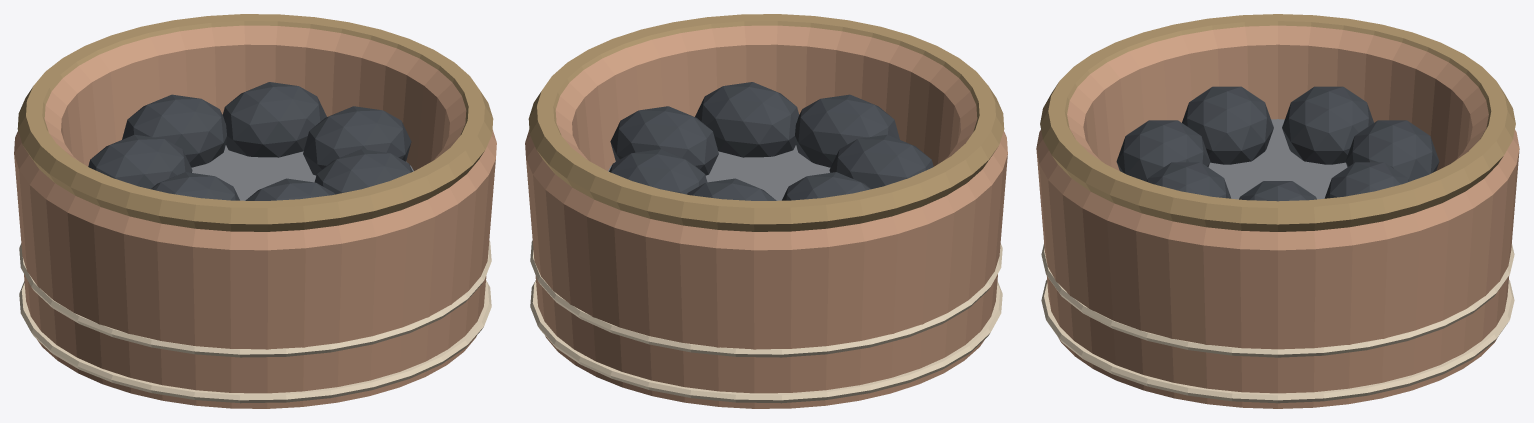
The model's file is home_hibachi.glb.
3 views of the same model, side by side, from view 1: azimuth 30°, elevation 25°; view 2: azimuth 150°, elevation 25°; view 3: azimuth 270°, elevation 25° (orthographic).
Visible parts, largest first — view 1: Hibachi deep glazed ash bowl, Hibachi dark copper lip, Charcoal briquette.001, Brazier ornate bands, Charcoal briquette.002, Charcoal briquette, Brazier ornate bands.001, Charcoal briquette.003, Gray ash inside, Charcoal briquette.006, Charcoal briquette.004, Charcoal briquette.005; view 2: Hibachi deep glazed ash bowl, Hibachi dark copper lip, Charcoal briquette.006, Brazier ornate bands, Charcoal briquette.005, Charcoal briquette, Brazier ornate bands.001, Charcoal briquette.004, Gray ash inside, Charcoal briquette.001, Charcoal briquette.003, Charcoal briquette.002; view 3: Hibachi deep glazed ash bowl, Hibachi dark copper lip, Brazier ornate bands, Charcoal briquette.003, Charcoal briquette.004, Brazier ornate bands.001, Gray ash inside, Charcoal briquette.002, Charcoal briquette.005, Charcoal briquette.001, Charcoal briquette.006, Charcoal briquette.
Part boxes in pixels (x1,y1,x2,y2): Hibachi deep glazed ash bowl: (14, 25, 496, 408); Hibachi dark copper lip: (17, 14, 493, 231); Charcoal briquette.001: (222, 82, 326, 157); Brazier ornate bands: (19, 280, 491, 403); Charcoal briquette.002: (122, 94, 226, 167); Charcoal briquette: (303, 106, 411, 175); Brazier ornate bands.001: (19, 240, 491, 357); Charcoal briquette.003: (88, 134, 192, 188); Gray ash inside: (191, 145, 413, 200); Charcoal briquette.006: (314, 149, 412, 194); Charcoal briquette.004: (151, 172, 239, 200); Charcoal briquette.005: (245, 178, 334, 200); Hibachi deep glazed ash bowl: (525, 25, 1007, 408); Hibachi dark copper lip: (528, 14, 1004, 231); Charcoal briquette.006: (695, 82, 799, 157); Brazier ornate bands: (530, 280, 1002, 403); Charcoal briquette.005: (795, 94, 899, 167); Charcoal briquette: (610, 106, 718, 175); Brazier ornate bands.001: (530, 240, 1002, 357); Charcoal briquette.004: (829, 134, 933, 188); Gray ash inside: (608, 145, 830, 200); Charcoal briquette.001: (609, 149, 707, 194); Charcoal briquette.003: (782, 172, 870, 200); Charcoal briquette.002: (687, 178, 776, 200); Hibachi deep glazed ash bowl: (1036, 25, 1519, 408); Hibachi dark copper lip: (1040, 14, 1515, 231); Brazier ornate bands: (1041, 280, 1514, 403); Charcoal briquette.003: (1282, 86, 1373, 164); Charcoal briquette.004: (1182, 86, 1273, 164); Brazier ornate bands.001: (1041, 244, 1514, 357); Gray ash inside: (1208, 119, 1347, 199); Charcoal briquette.002: (1345, 120, 1439, 181); Charcoal briquette.005: (1116, 120, 1210, 181); Charcoal briquette.001: (1324, 162, 1408, 198); Charcoal briquette.006: (1147, 162, 1231, 198); Charcoal briquette: (1239, 181, 1316, 201).
Size of the model in its own units: 1.95 by 0.9783 by 1.95.
